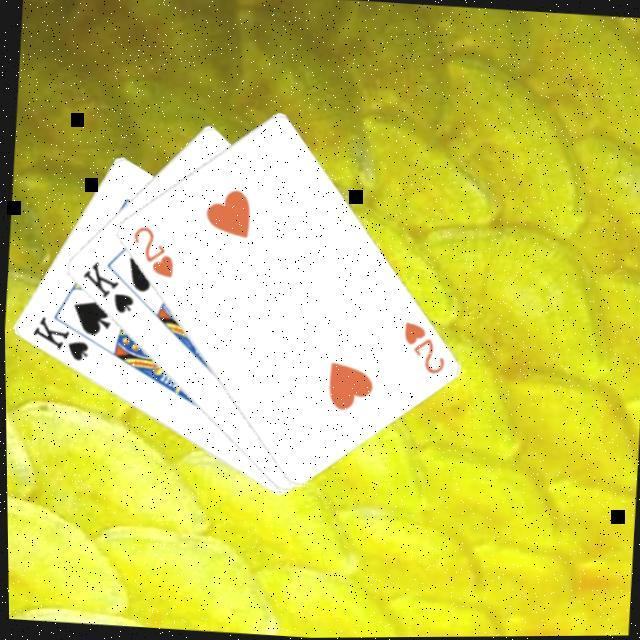2H: (126, 222, 180, 282), (396, 318, 449, 379)
KS: (75, 258, 138, 318), (26, 312, 94, 366)
